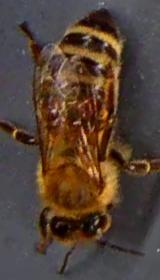varroa_mite: (72, 94, 106, 118)
